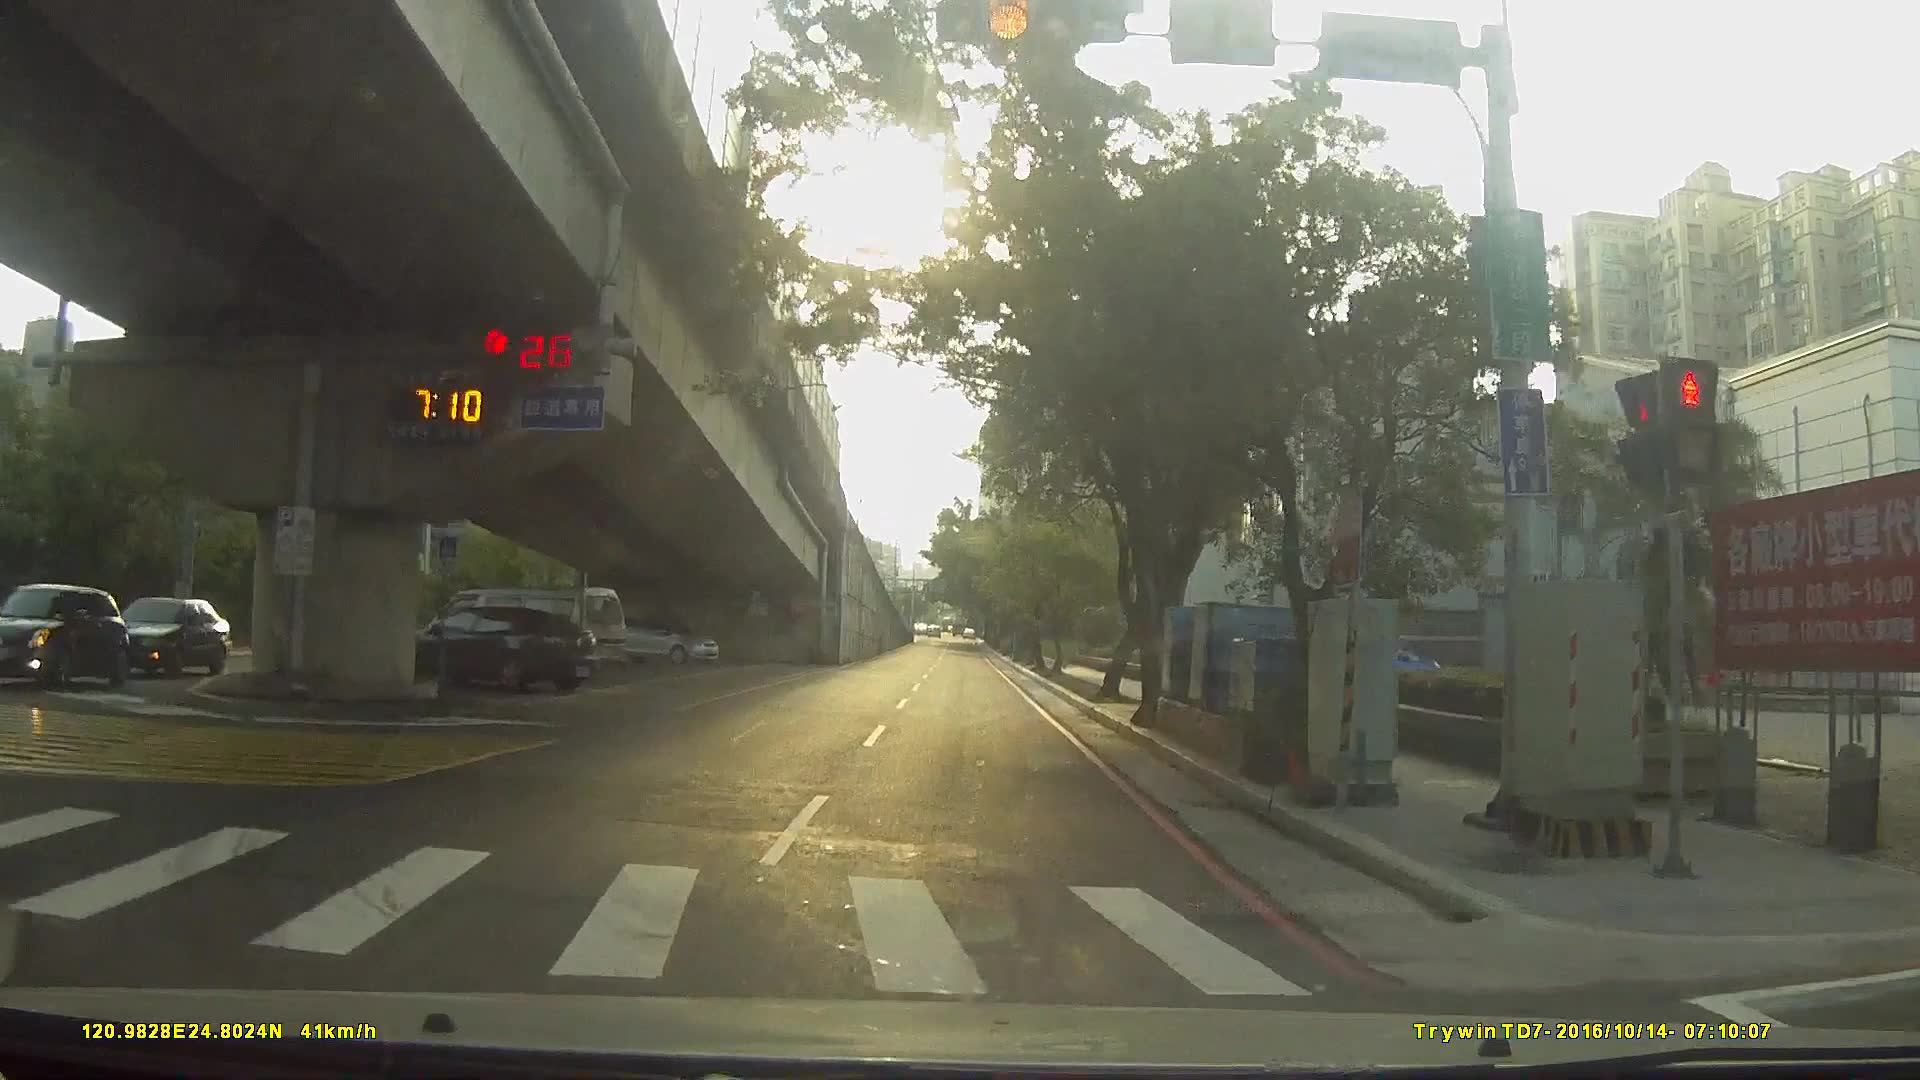vehicle: (418, 585, 622, 682), (381, 605, 589, 698), (1, 578, 137, 688), (98, 592, 240, 676), (595, 613, 717, 669)
